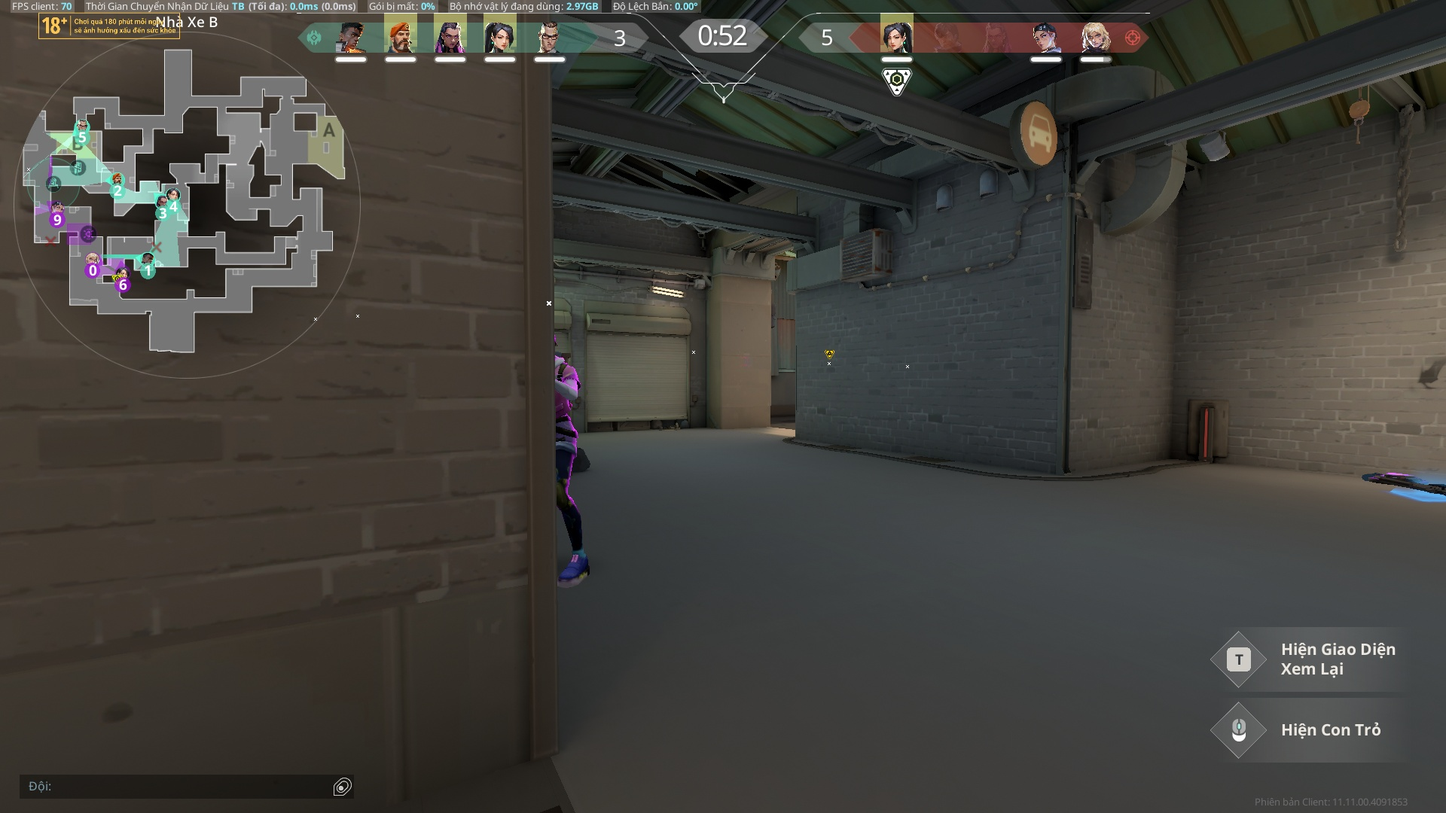body: (553, 355, 579, 440)
head: (552, 330, 561, 355)
